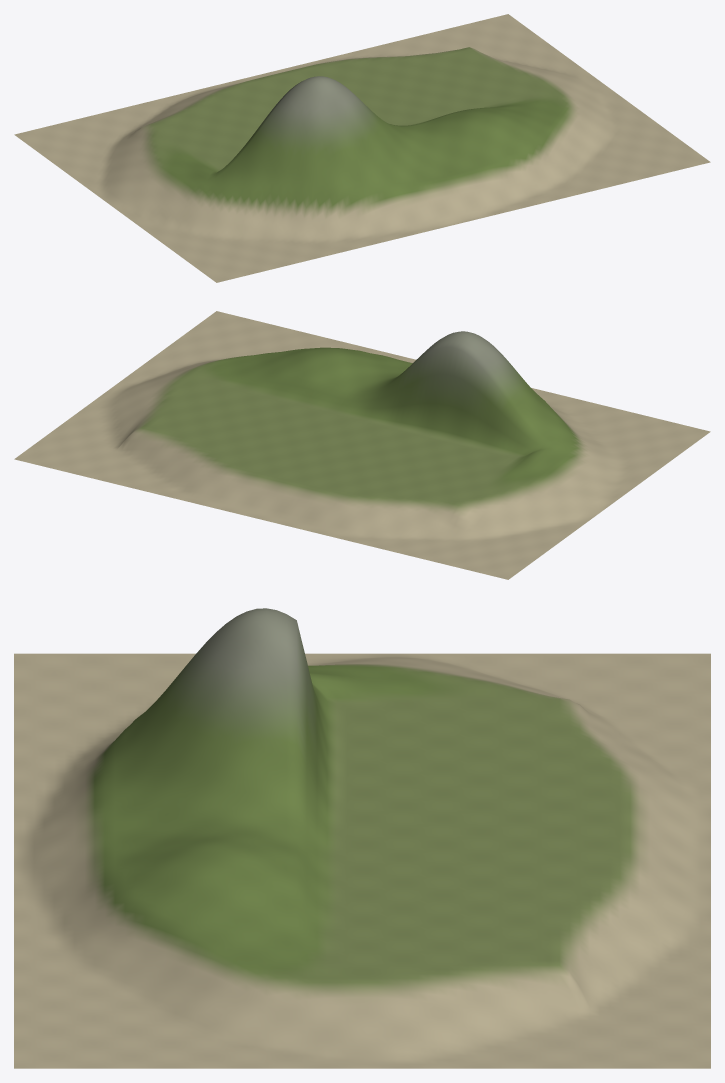
File: island_visual_test.glb
The picture shows the model from 3 angles, top to bottom: view 1: azimuth 30°, elevation 25°; view 2: azimuth 150°, elevation 25°; view 3: azimuth 270°, elevation 25°; orthographic projection. The views are drawn at different scales.
Parts seen in each view (by area): view 1: layered_terrain; view 2: layered_terrain; view 3: layered_terrain.
Part boxes in pixels (x1,y1,x2,y2): layered_terrain: (14, 14, 710, 282); layered_terrain: (14, 311, 710, 579); layered_terrain: (14, 608, 710, 1068).
Size of the model in its own units: 162 by 33.96 by 115.
